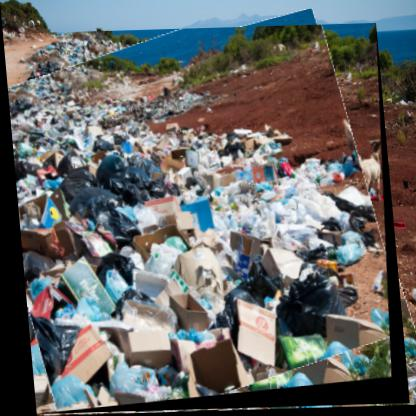Garbage: (3, 26, 404, 416)
